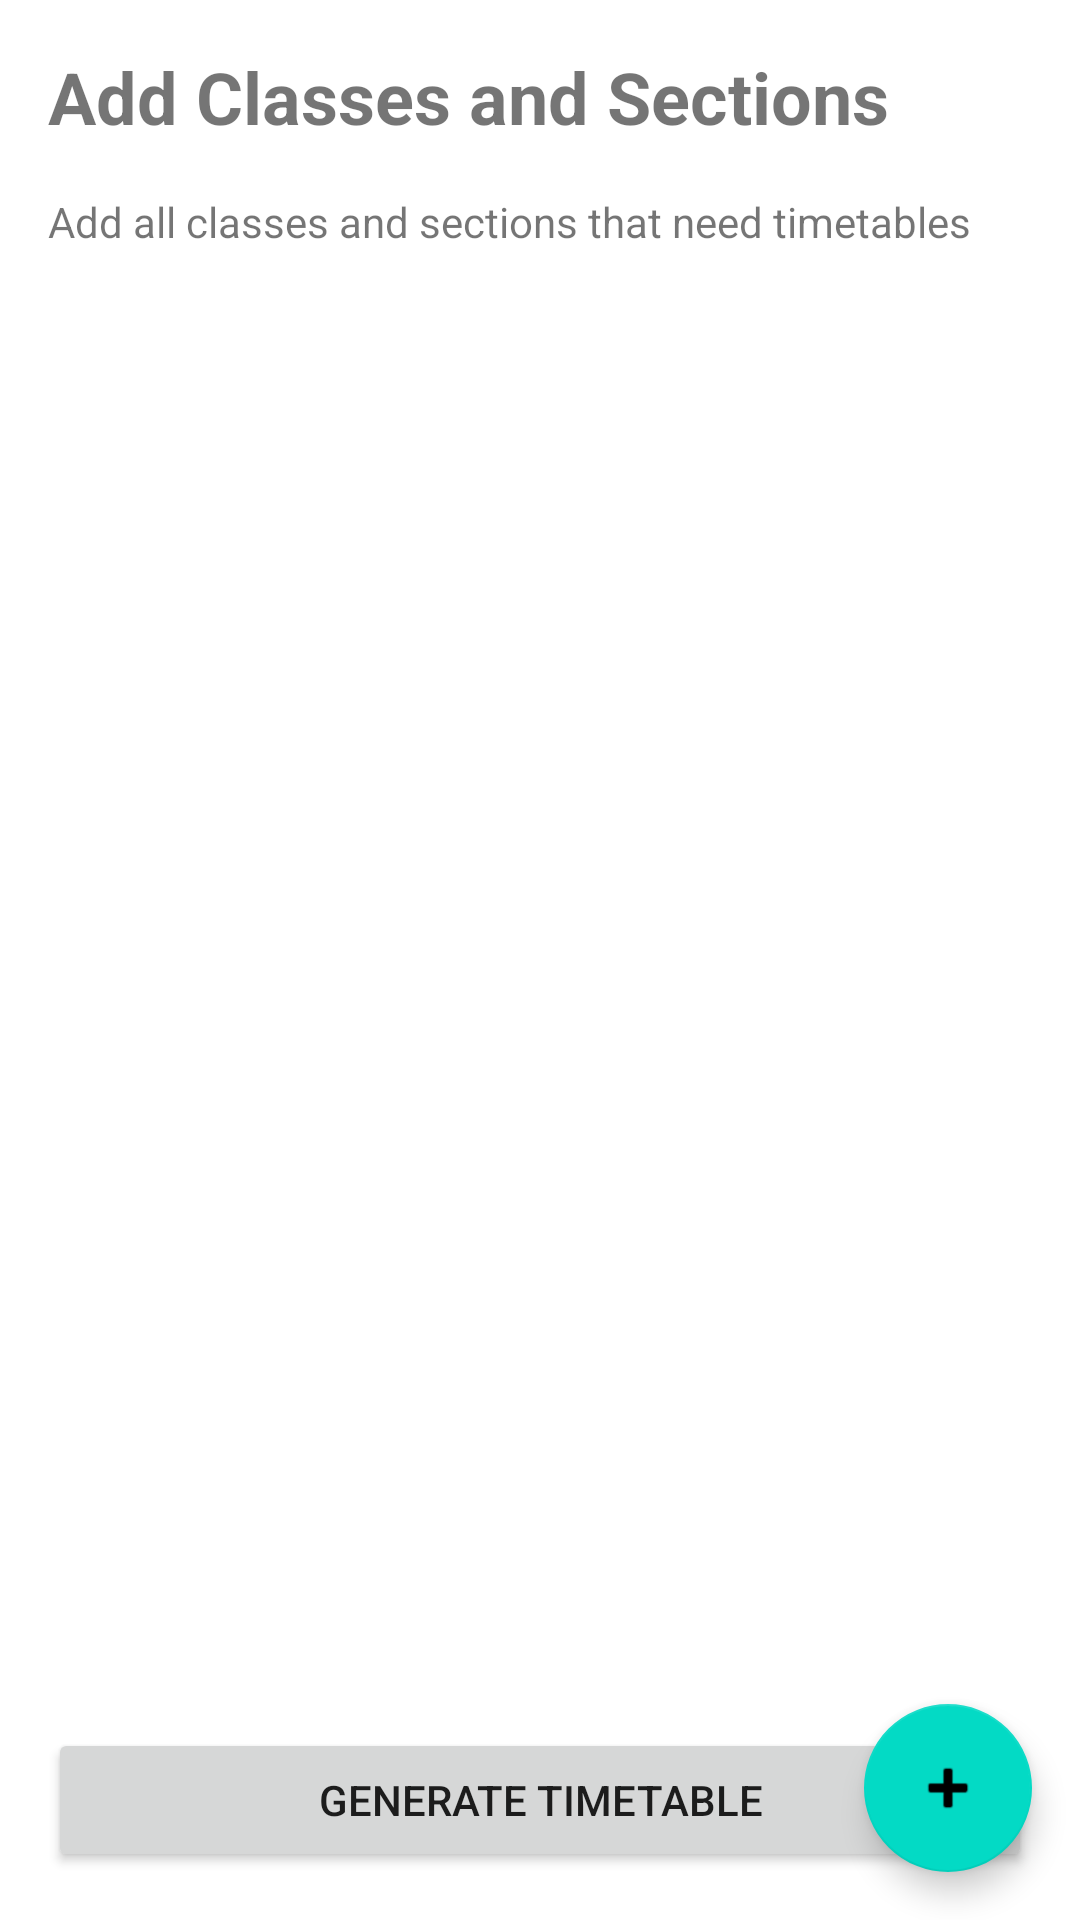

Point at icon controls on the screen. Image size 1080 x 1920, points as point (x, y).
Add Class: point (948, 1788)
